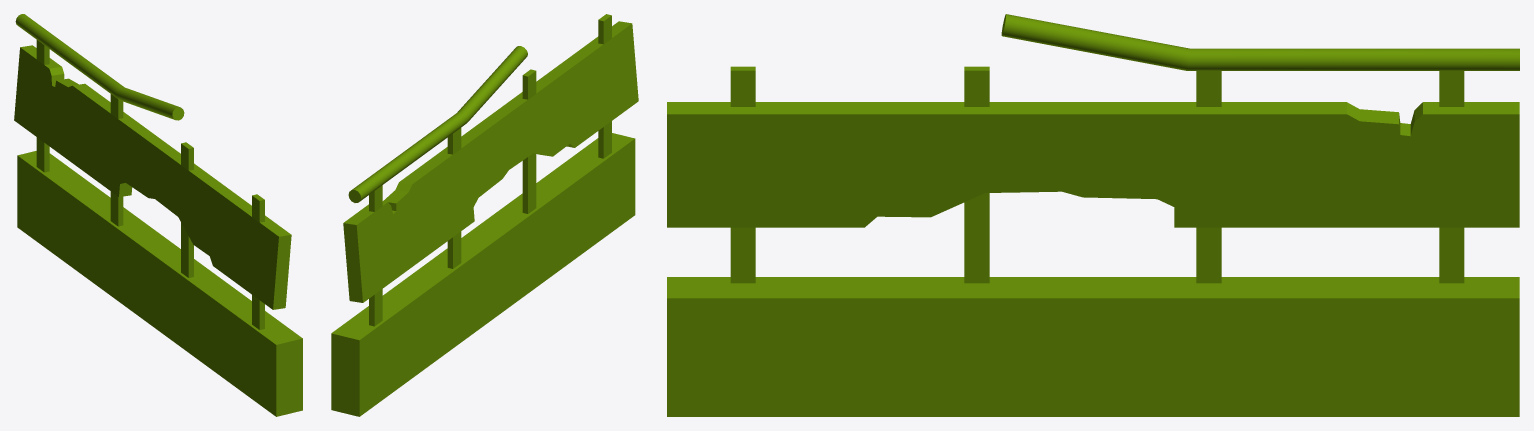
The model's file is SM_Barriere2_damaged.fbx.
3 renders of one model, left to right at view 1: azimuth 30°, elevation 25°; view 2: azimuth 150°, elevation 25°; view 3: azimuth 270°, elevation 25°, orthographic. The views are drawn at different scales.
Parts seen in each view (by area): view 1: Barriere2_damaged; view 2: Barriere2_damaged; view 3: Barriere2_damaged.
Part boxes in pixels (left/top/right/bottom): Barriere2_damaged: left=14, top=14, right=302, bottom=416; Barriere2_damaged: left=331, top=14, right=638, bottom=416; Barriere2_damaged: left=667, top=14, right=1519, bottom=416.
Size of the model in its own units: 10.01 by 74.56 by 150.
